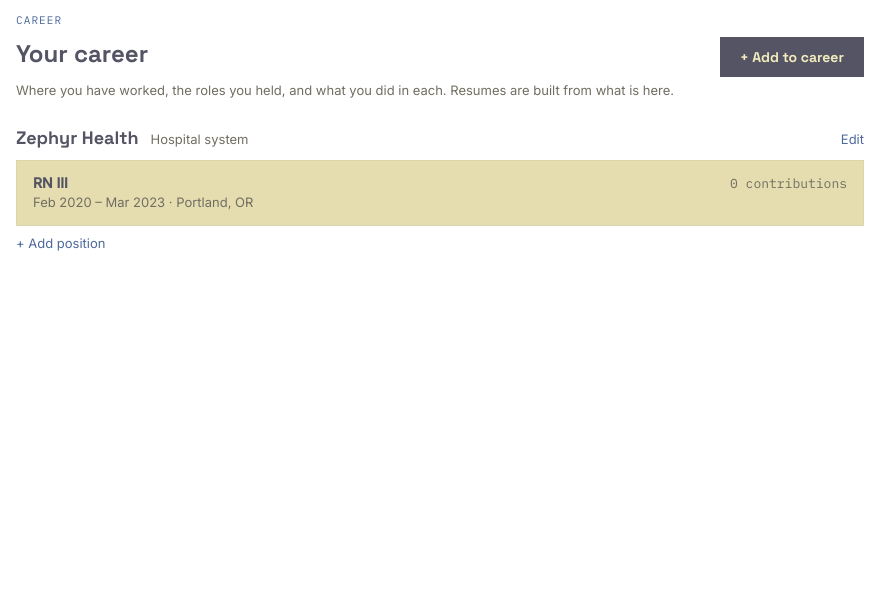
Test: editing an employer › sends the whole employer, not just the field that changed
Click the button with aria-label "Edit Zephyr Health" at (852,140), box [841,130,864,150]
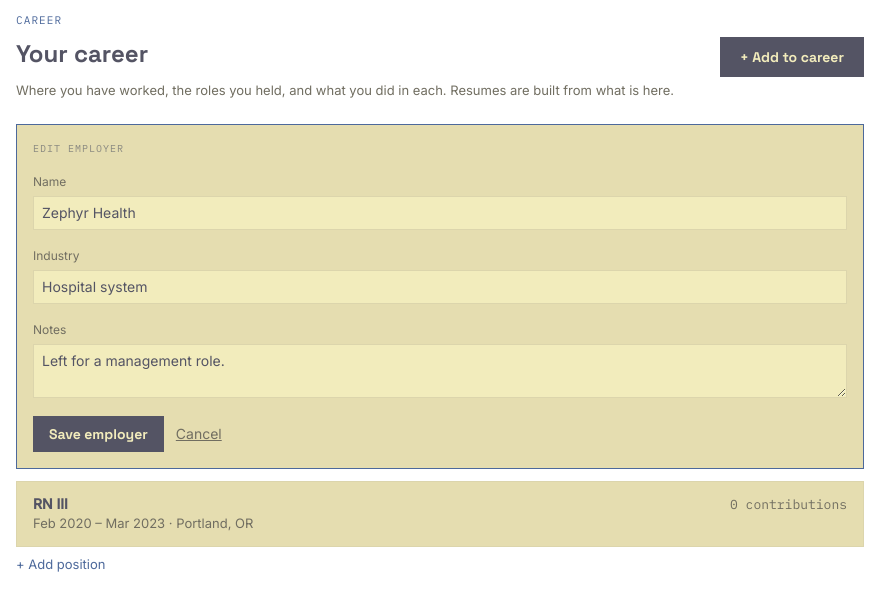
Replace the text in the field labelled "Name" with "Zephyr Health Partners" at (440,213), box [33,196,847,230]
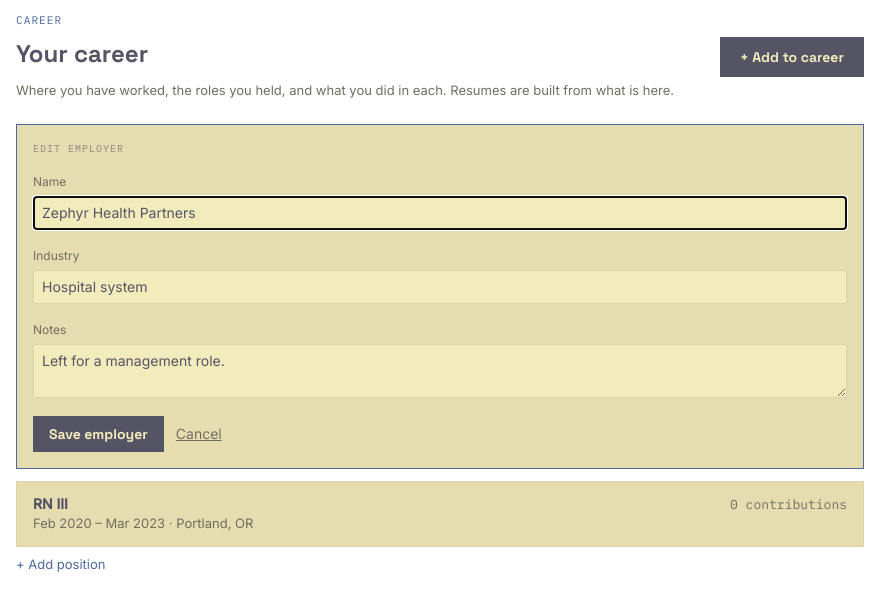
Click the button "Save employer" at (98,434), box [33,416,164,452]
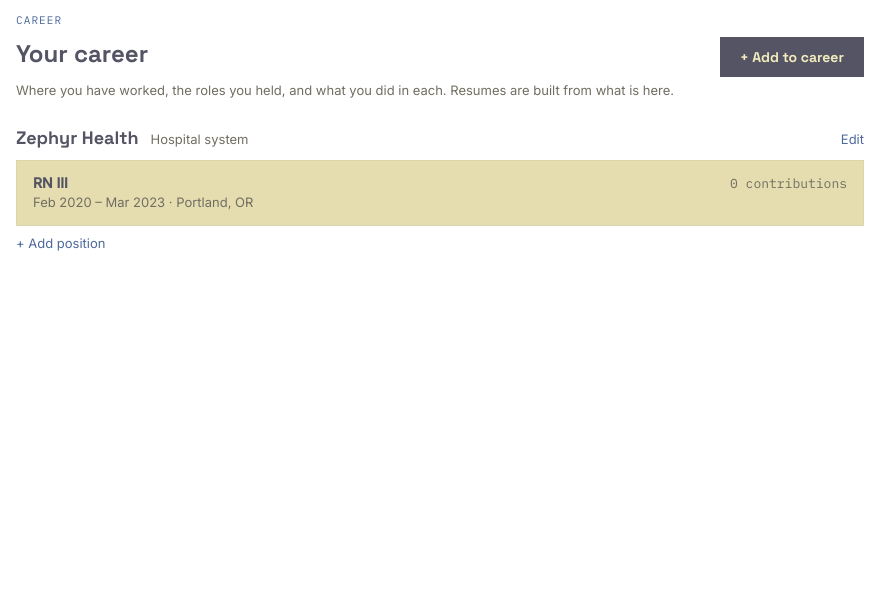
Now the text "Edit employer" is gone
